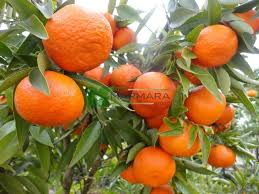orange: (43, 6, 111, 72), (18, 73, 87, 129), (130, 74, 174, 117), (196, 25, 238, 68), (132, 145, 177, 185), (183, 85, 225, 124), (160, 118, 200, 156), (112, 63, 140, 93), (208, 143, 238, 170)
